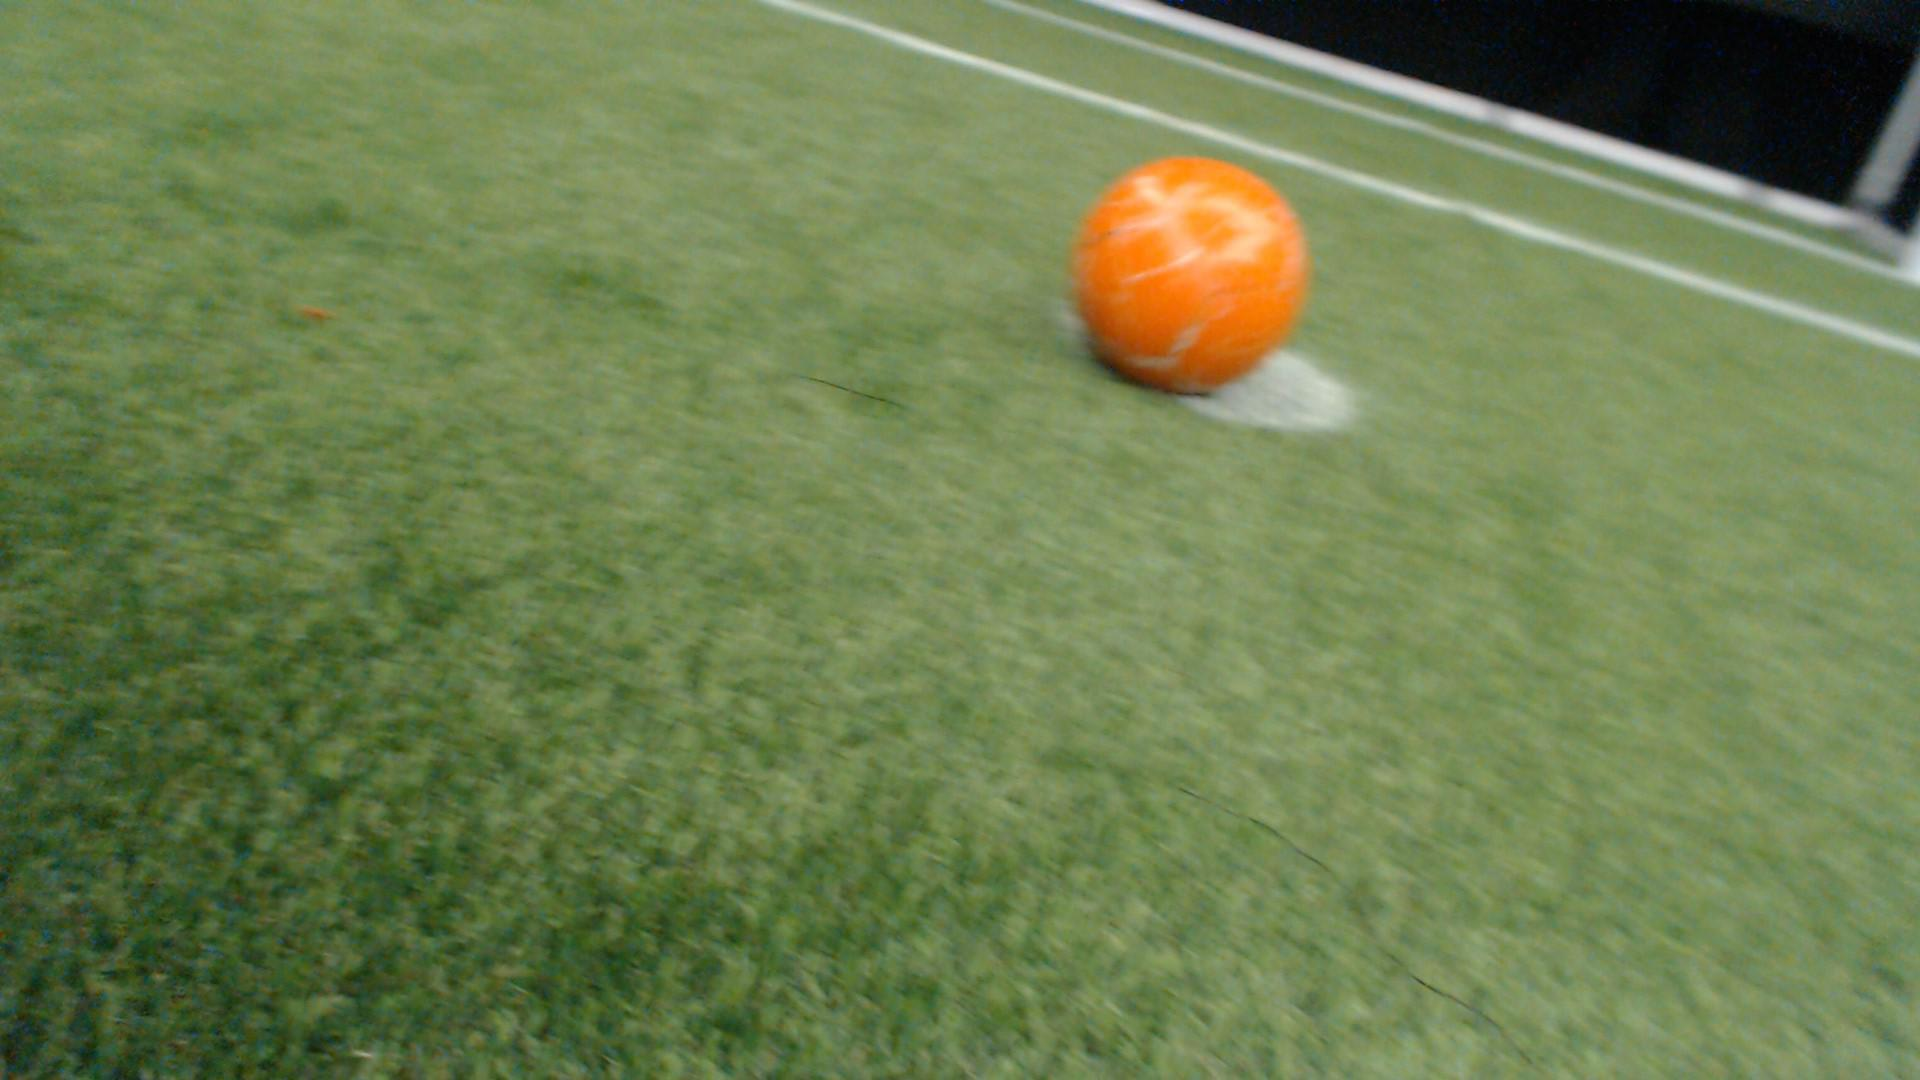bola: (1062, 123, 1345, 425)
